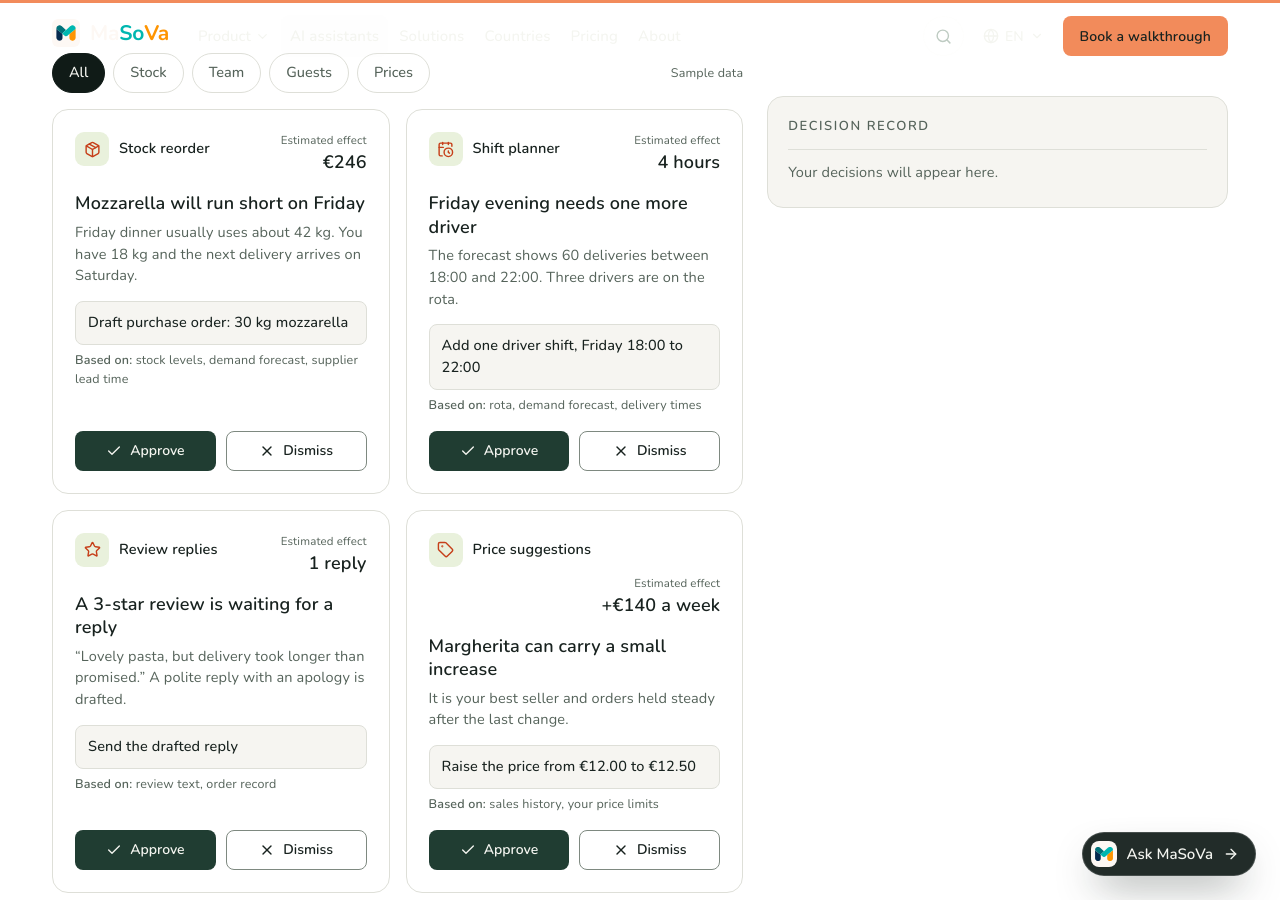
Test: ProductSitePage › moves an approved proposal into the decision record and clears it on start again
The width and height of the screenshot is (1280, 900).
(page scrolled)
expect the text "Your decisions will appear here." is shown: met, box [788,148,1207,187]
Step 1. Click the button "Approve" below "€246" → [145, 451], box [75,431,216,471]
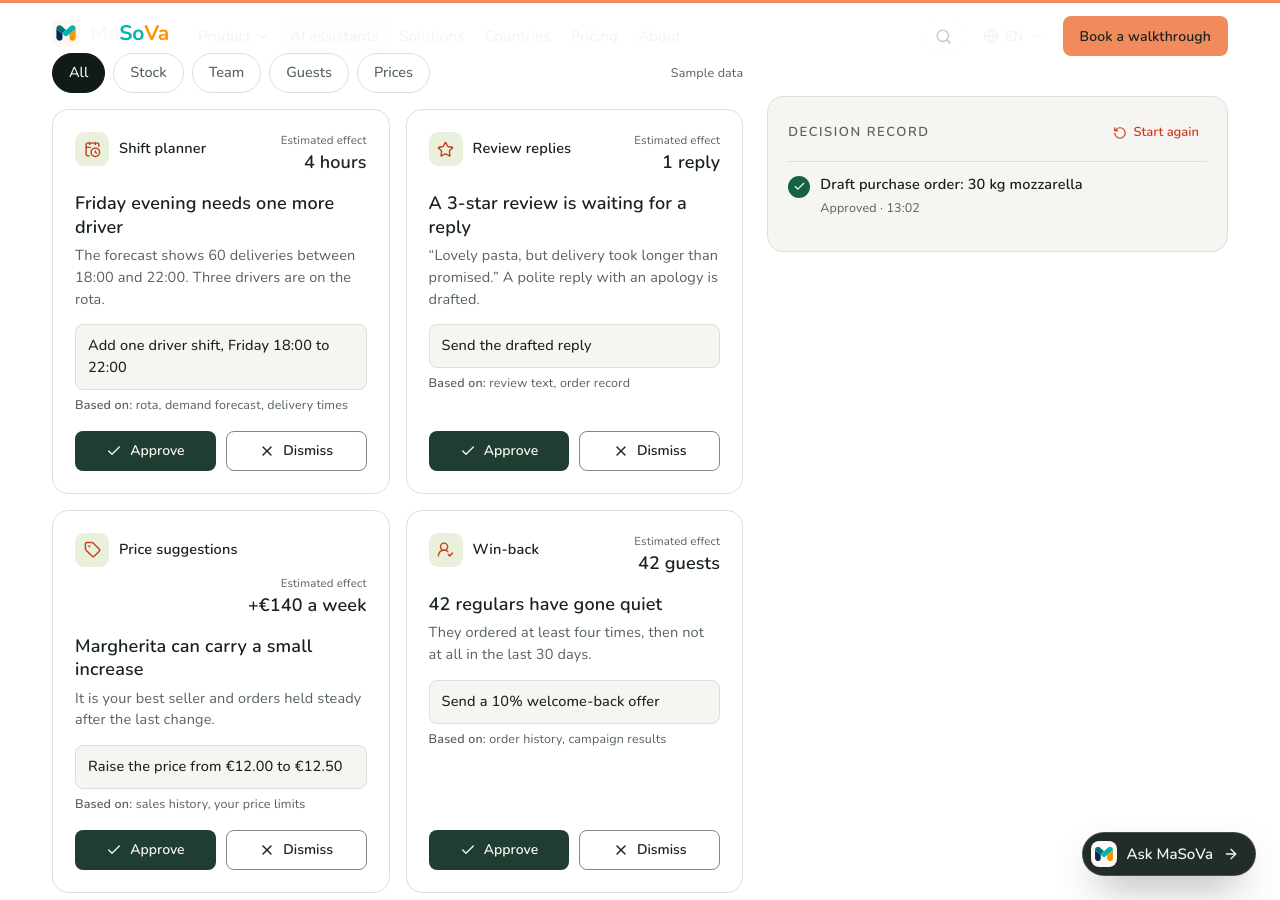
expect the text "Draft purchase order: 30 kg mozzarella" is shown: met, box [820,174,1083,195]
expect the text "Approved · 13:02" is shown: met, box [820,199,920,216]
Step 2. Click the button "Start again" → [1156, 133], box [1106,117,1207,148]
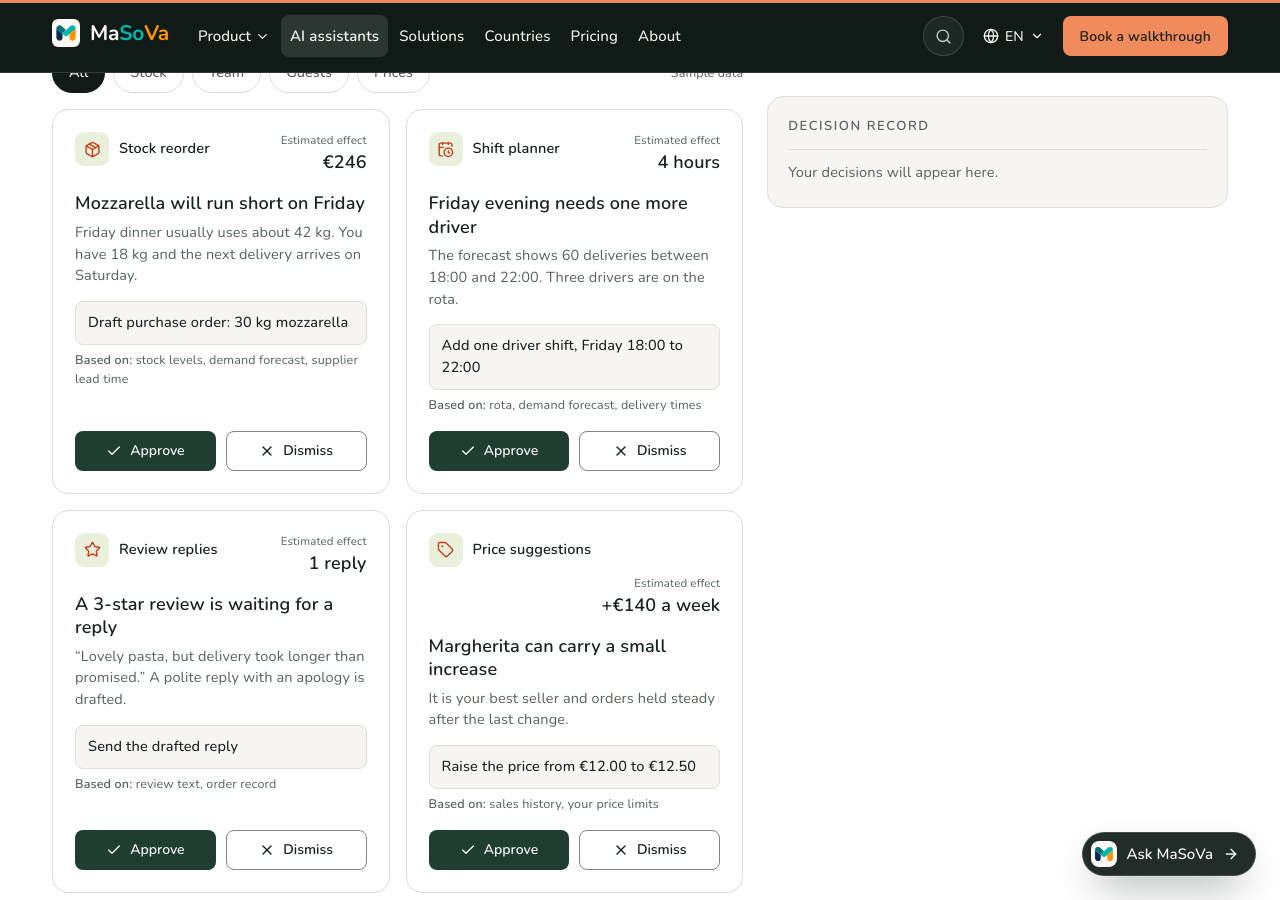
expect the text "Your decisions will appear here." is shown: met, box [788,148,1207,187]
